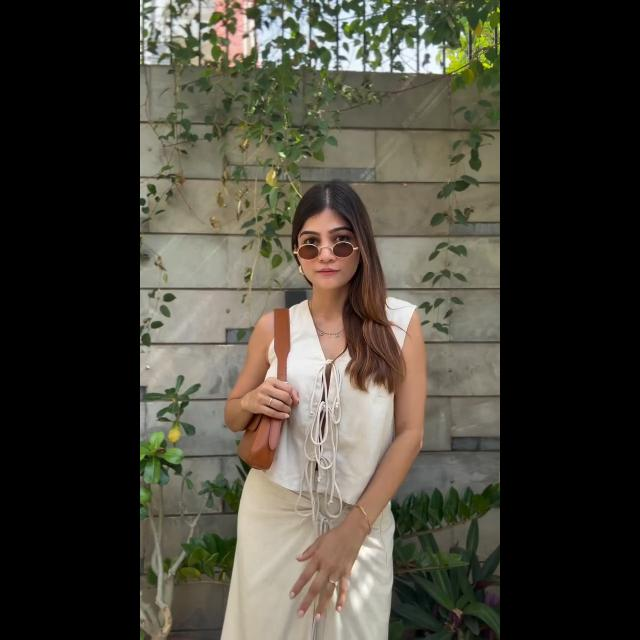dress: (242, 296, 392, 640)
glasses: (295, 241, 361, 261)
handbag: (248, 294, 294, 466)
